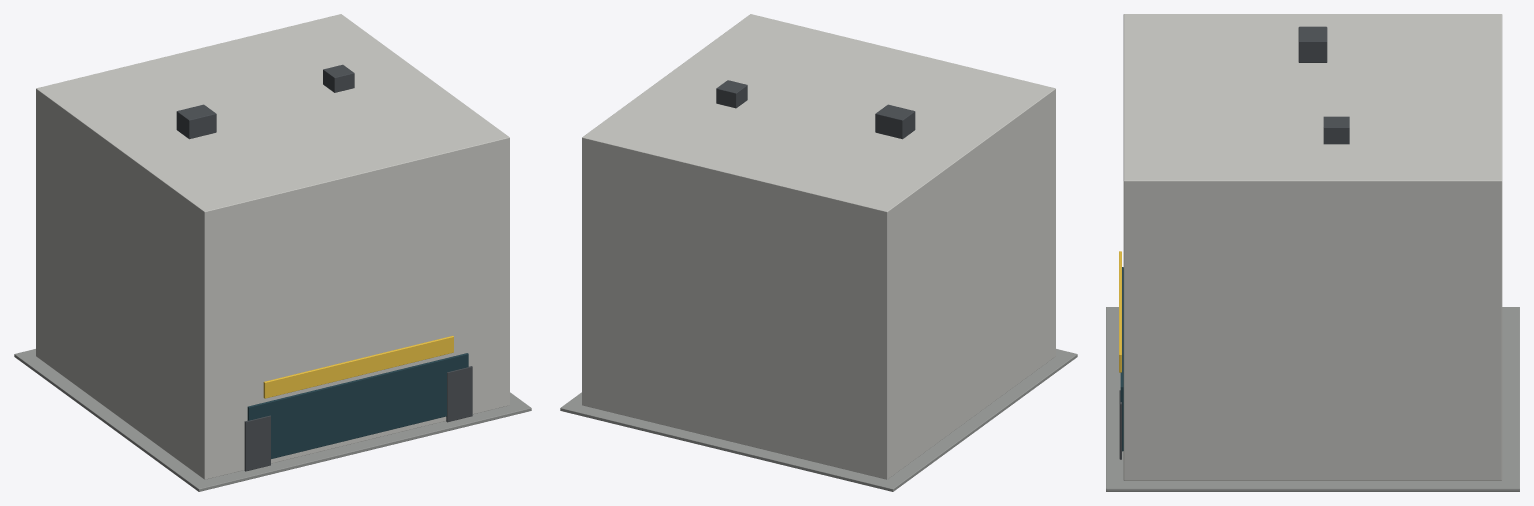
File: Building_Commercial_007.glb
3 renders of one model, left to right at view 1: azimuth 30°, elevation 25°; view 2: azimuth 150°, elevation 25°; view 3: azimuth 270°, elevation 25°, orthographic. The views are drawn at different scales.
Parts seen in each view (by area): view 1: Building_Commercial_007; view 2: Building_Commercial_007; view 3: Building_Commercial_007.
Part boxes in pixels (x1=…): Building_Commercial_007: x1=14, y1=14, x2=531, y2=491; Building_Commercial_007: x1=560, y1=14, x2=1077, y2=491; Building_Commercial_007: x1=1106, y1=14, x2=1519, y2=491.
Bounding box in the file's own units: 18.2 × 15.16 × 17.49.
